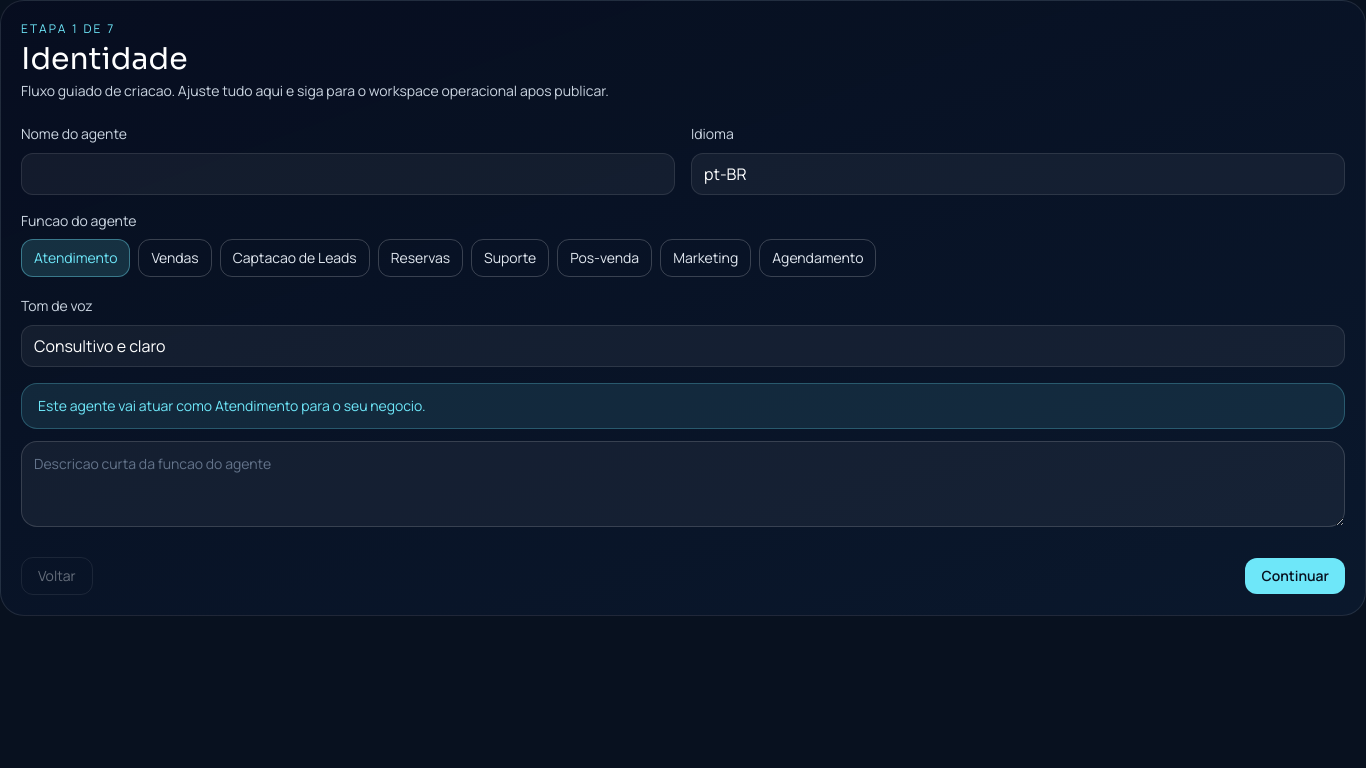
Test: Agents v2 flow › bloqueia avanço no wizard sem nome do agente
The image size is (1366, 768).
Click the button "Continuar": x=1295, y=576 [1245,558,1345,594]
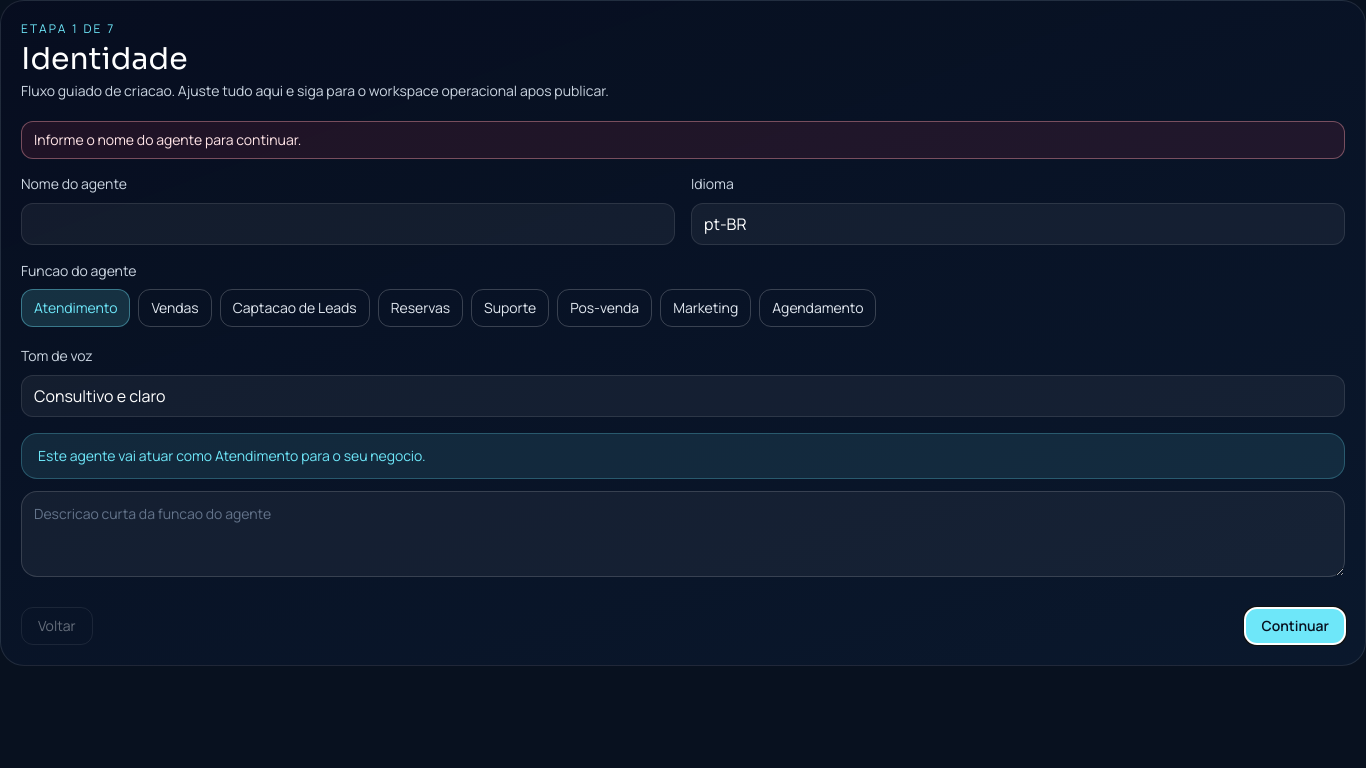
Expected: the text "Informe o nome do agente para continuar." is shown, [21,121,1345,159]
